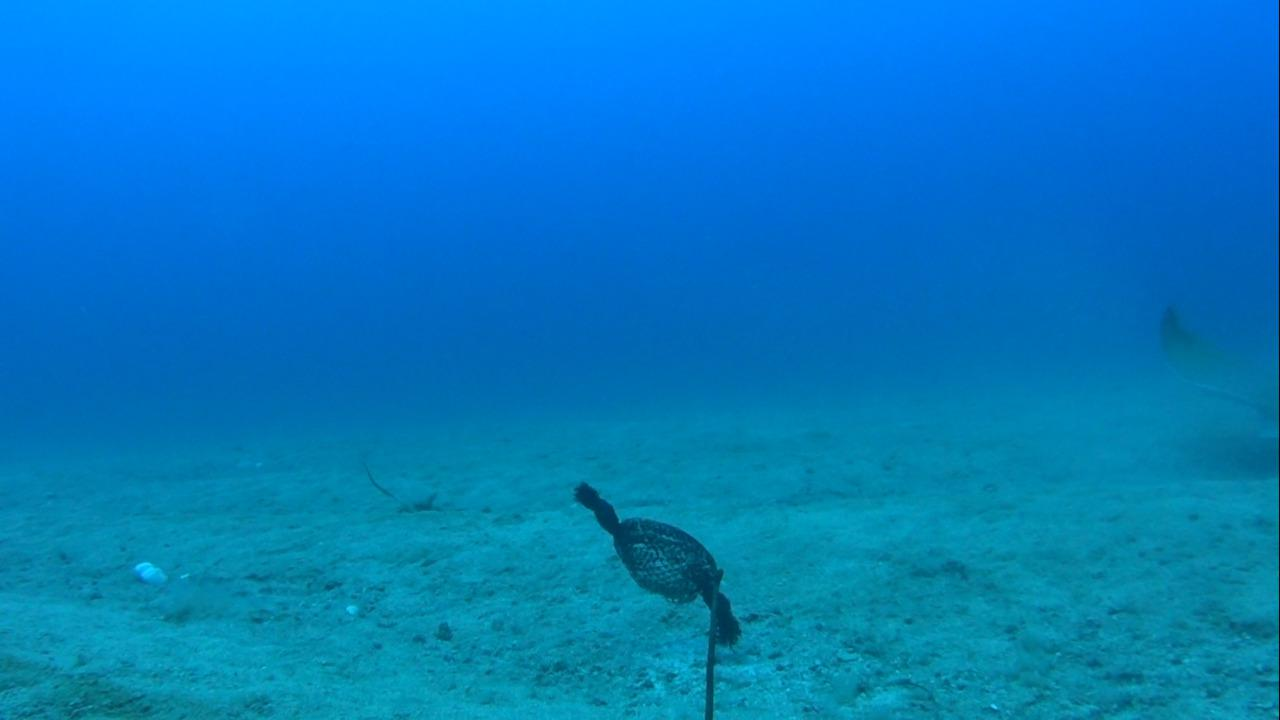myliobatis: (1145, 290, 1279, 427)
